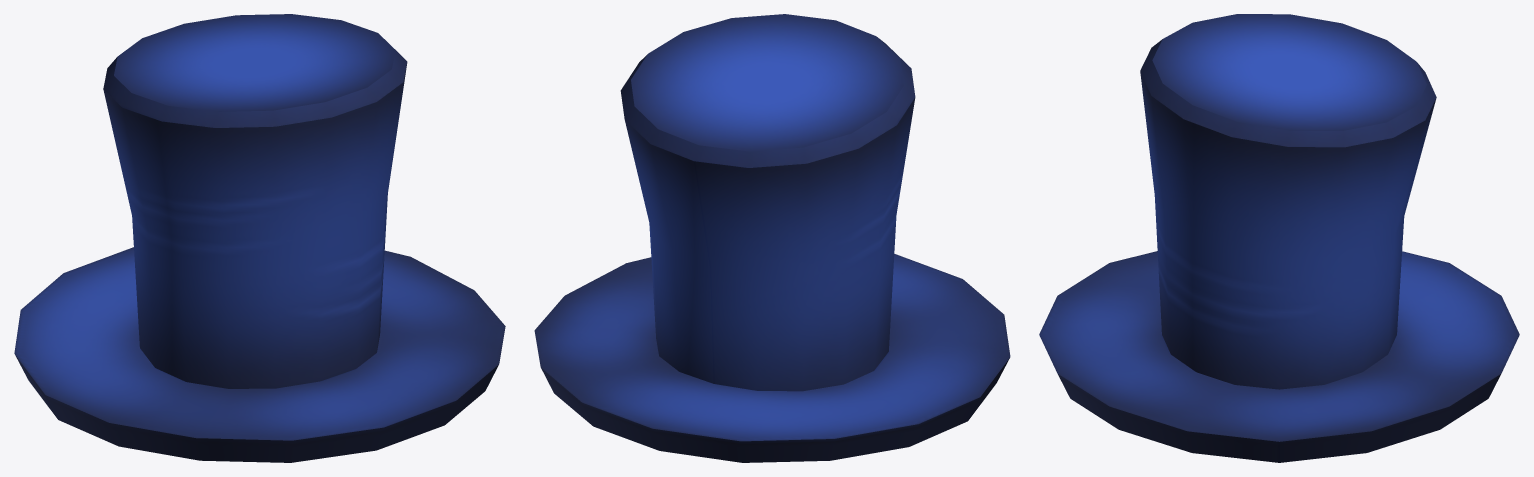
3 renders of one model, left to right at view 1: azimuth 30°, elevation 25°; view 2: azimuth 150°, elevation 25°; view 3: azimuth 270°, elevation 25°, orthographic. The views are drawn at different scales.
Parts seen in each view (by area): view 1: m_CylinderHat01; view 2: m_CylinderHat01; view 3: m_CylinderHat01.
Boxes of the visible parts, bbox=[...] form: m_CylinderHat01: bbox=[14, 14, 505, 462]; m_CylinderHat01: bbox=[534, 14, 1010, 462]; m_CylinderHat01: bbox=[1039, 14, 1519, 462].
Size of the model in its own units: 0.8932 by 0.6296 by 0.8932.
1 material, 1 textured.
